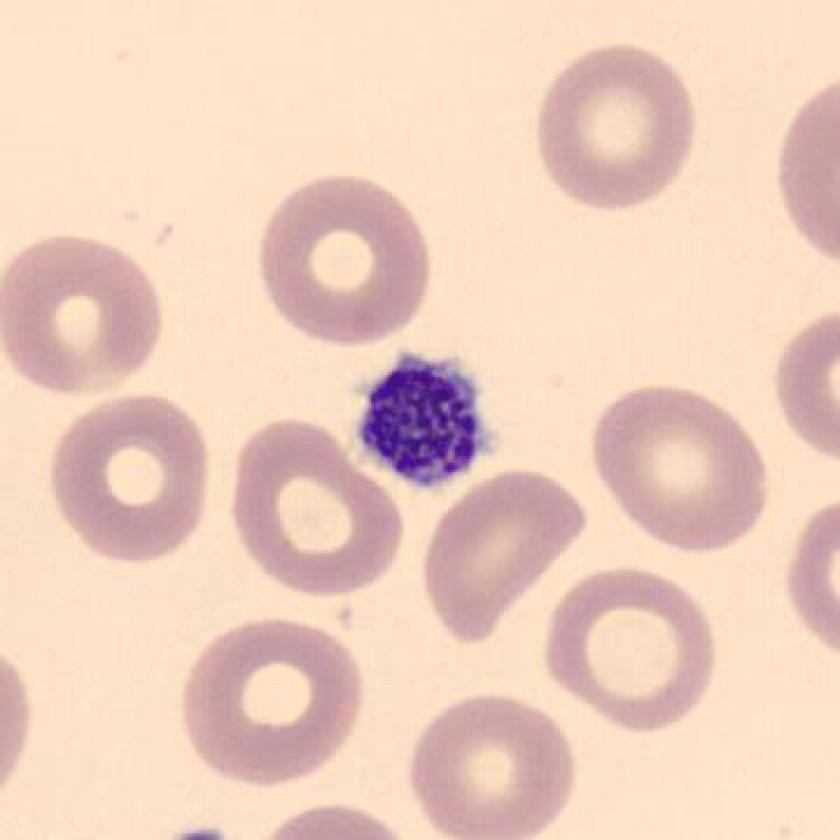platelets: (337, 344, 507, 503)
